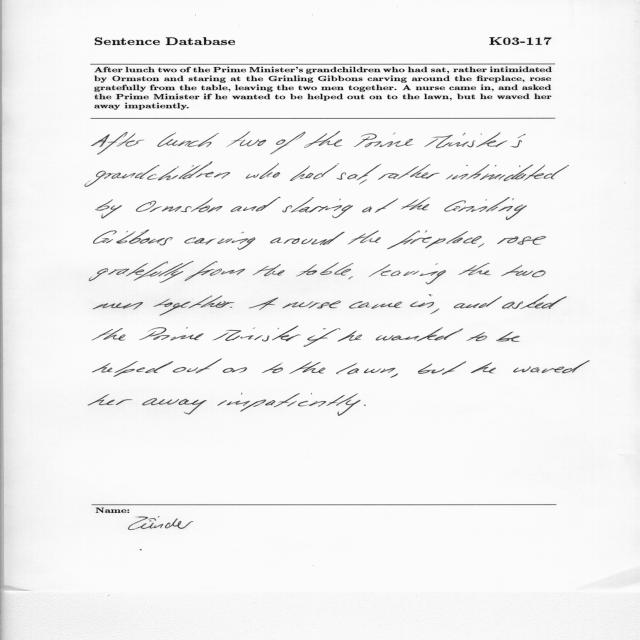word: (85, 162, 230, 187), (218, 393, 361, 416), (89, 261, 194, 283), (446, 164, 569, 181), (444, 197, 527, 220), (387, 231, 482, 250), (424, 132, 526, 148), (154, 296, 235, 316), (369, 264, 446, 285), (282, 197, 353, 218), (212, 326, 301, 341), (184, 232, 256, 250), (93, 361, 174, 377), (91, 132, 144, 155), (376, 327, 463, 341), (136, 198, 222, 212), (93, 230, 173, 245), (185, 261, 245, 281), (142, 398, 207, 414), (513, 360, 590, 373), (378, 164, 440, 180), (270, 232, 345, 245), (502, 294, 567, 309), (157, 133, 219, 148), (139, 327, 204, 341), (354, 133, 414, 148), (290, 163, 339, 181), (270, 132, 305, 155), (296, 262, 353, 276), (231, 197, 281, 212), (337, 164, 381, 180), (304, 328, 341, 347), (173, 359, 222, 373), (418, 361, 466, 375), (336, 364, 395, 375), (304, 131, 342, 148), (227, 131, 266, 147), (453, 297, 502, 309), (246, 163, 280, 179), (362, 198, 398, 213), (501, 265, 546, 277), (96, 200, 122, 219), (88, 394, 132, 405), (289, 361, 326, 374), (282, 301, 341, 309), (348, 231, 381, 245), (497, 236, 546, 245), (92, 328, 125, 341), (349, 301, 402, 309), (93, 302, 143, 310), (252, 264, 285, 276), (458, 263, 491, 275), (401, 198, 430, 211), (249, 298, 278, 311), (410, 294, 434, 308), (338, 331, 363, 342), (471, 362, 496, 373), (496, 332, 520, 342), (262, 363, 283, 374), (466, 332, 487, 341), (223, 367, 247, 373), (430, 308, 440, 314), (359, 180, 367, 185), (390, 373, 398, 378), (478, 244, 484, 248), (349, 276, 353, 280), (364, 404, 366, 406), (230, 307, 232, 308)
